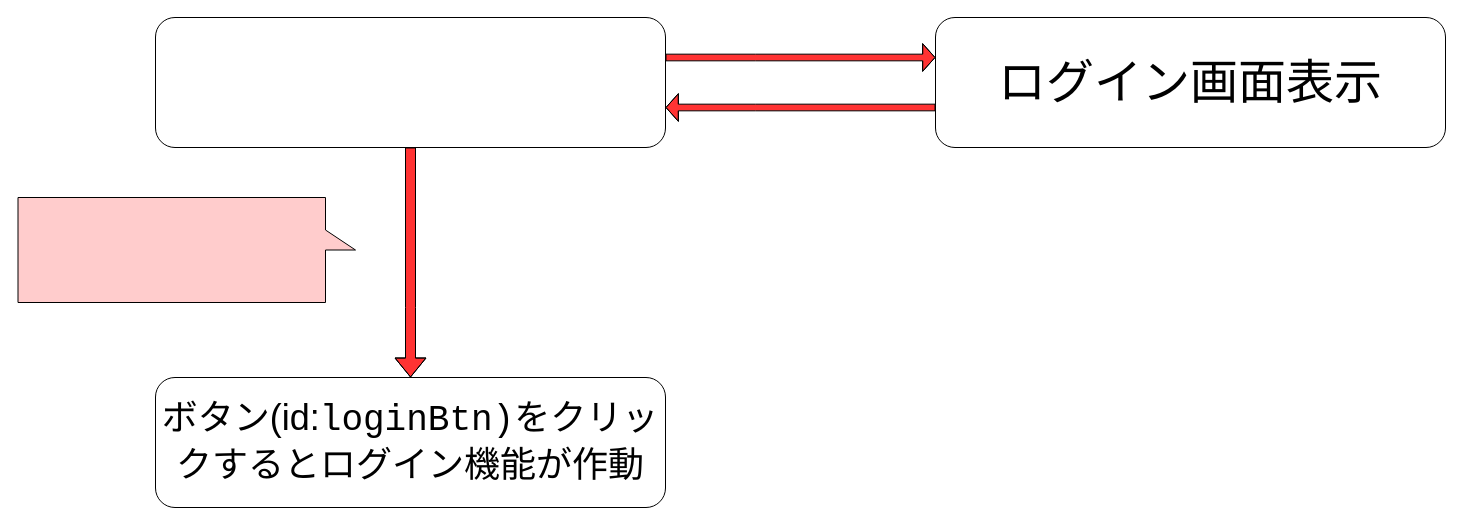
This 1463x525 diagram has some shape labels left out. Here are the shapes that lost their labels. From the top down, the box of each, then its label:
(154, 16, 666, 148): ログイン画面表示(html)
(17, 196, 356, 302): ユーザー名/パスワードを入力し ログインボタンをクリック
